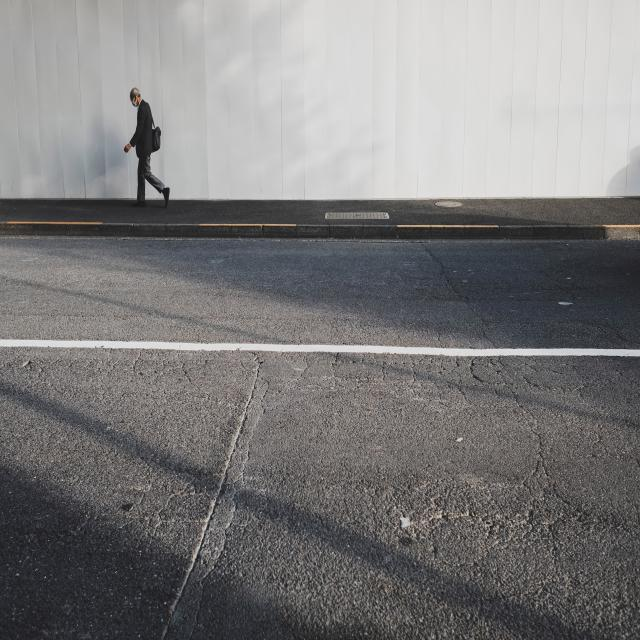adult: (124, 89, 170, 202)
